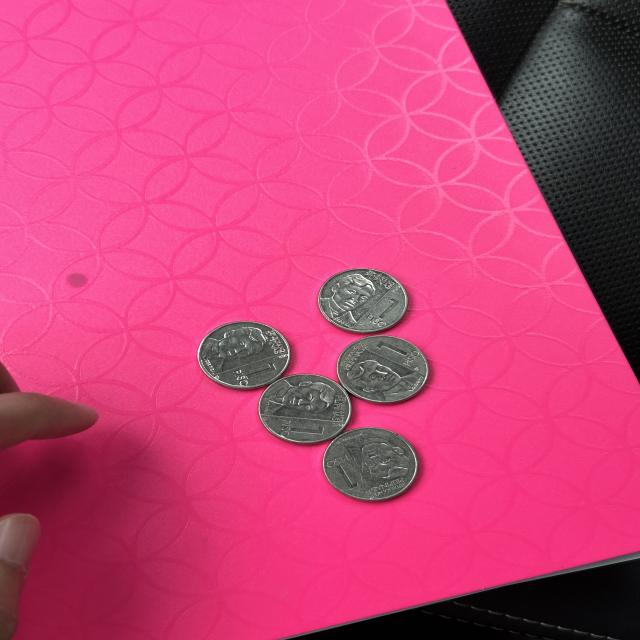1_New_Front: (272, 414, 325, 444), (326, 450, 360, 492), (372, 336, 416, 366), (364, 293, 396, 332), (223, 364, 279, 385)
